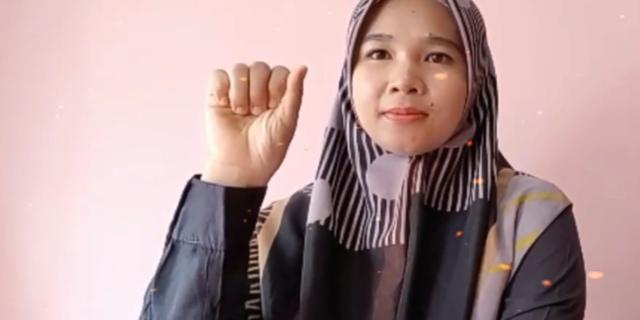A: (198, 44, 312, 180)
